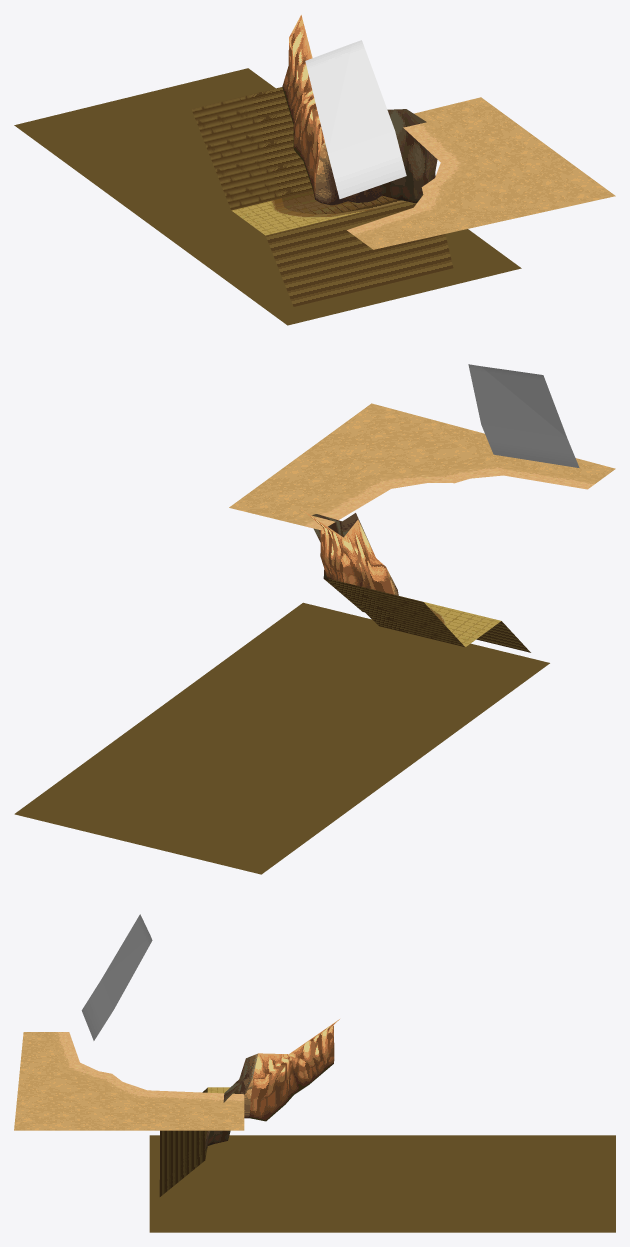
The picture shows the model from 3 angles, top to bottom: view 1: azimuth 30°, elevation 25°; view 2: azimuth 150°, elevation 25°; view 3: azimuth 270°, elevation 25°; orthographic projection. The views are drawn at different scales.
Visible parts, largest first — view 1: polygon2, polygon10, polygon3, polygon1, polygon0, polygon6, polygon7, polygon4, polygon8, polygon5, polygon9; view 2: polygon2, polygon10, polygon1, polygon0, polygon6, polygon4, polygon3; view 3: polygon2, polygon10, polygon6, polygon1, polygon0, polygon3, polygon8, polygon7.
Boxes of the visible parts, <box> form: polygon2: <box>14,68,521,325</box>; polygon10: <box>359,97,615,249</box>; polygon3: <box>266,201,453,306</box>; polygon1: <box>305,40,406,198</box>; polygon0: <box>347,112,473,238</box>; polygon6: <box>282,15,324,198</box>; polygon7: <box>381,109,437,203</box>; polygon4: <box>231,201,362,235</box>; polygon8: <box>315,143,381,205</box>; polygon5: <box>282,190,405,214</box>; polygon9: <box>271,198,374,217</box>; polygon2: <box>14,578,549,874</box>; polygon10: <box>229,403,615,522</box>; polygon1: <box>468,364,579,467</box>; polygon0: <box>292,463,599,530</box>; polygon6: <box>301,509,393,594</box>; polygon4: <box>412,599,500,646</box>; polygon3: <box>324,579,530,652</box>; polygon2: <box>149,1026,615,1232</box>; polygon10: <box>14,1032,244,1130</box>; polygon6: <box>249,1019,339,1121</box>; polygon1: <box>81,914,152,1040</box>; polygon0: <box>49,1032,244,1105</box>; polygon3: <box>159,1088,207,1196</box>; polygon8: <box>239,1053,258,1118</box>; polygon7: <box>205,1075,243,1150</box>.
Size of the model in its own units: 2.1 by 2.24 by 5.16.
